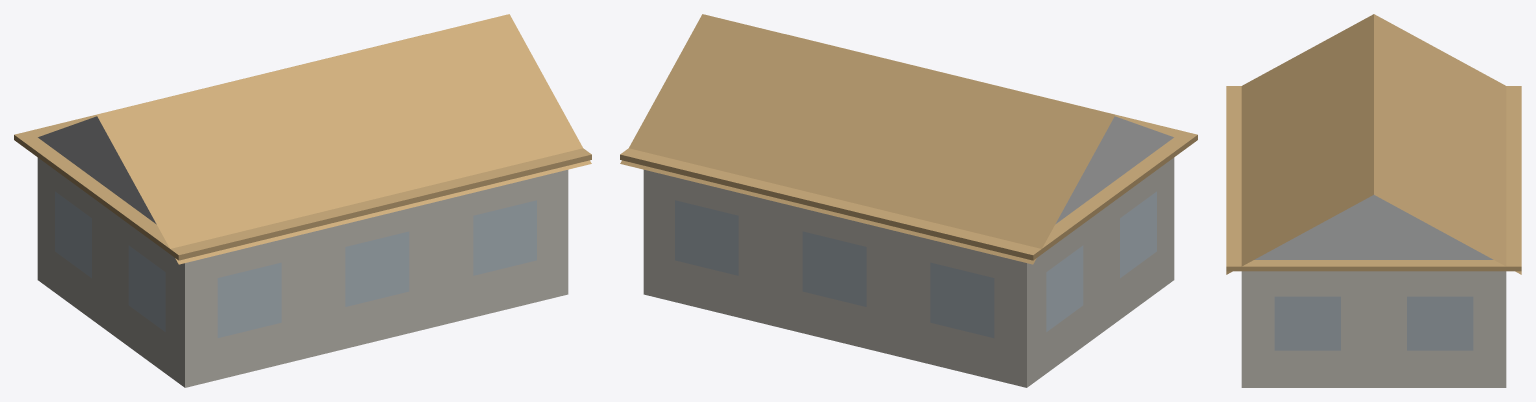
Rendered from 10_traditional_houses-08.glb.
3 views of the same model, side by side, from view 1: azimuth 30°, elevation 25°; view 2: azimuth 150°, elevation 25°; view 3: azimuth 270°, elevation 25° (orthographic). The views are drawn at different scales.
Bounding box in the file's own units: 9.7 × 5 × 6.7.
